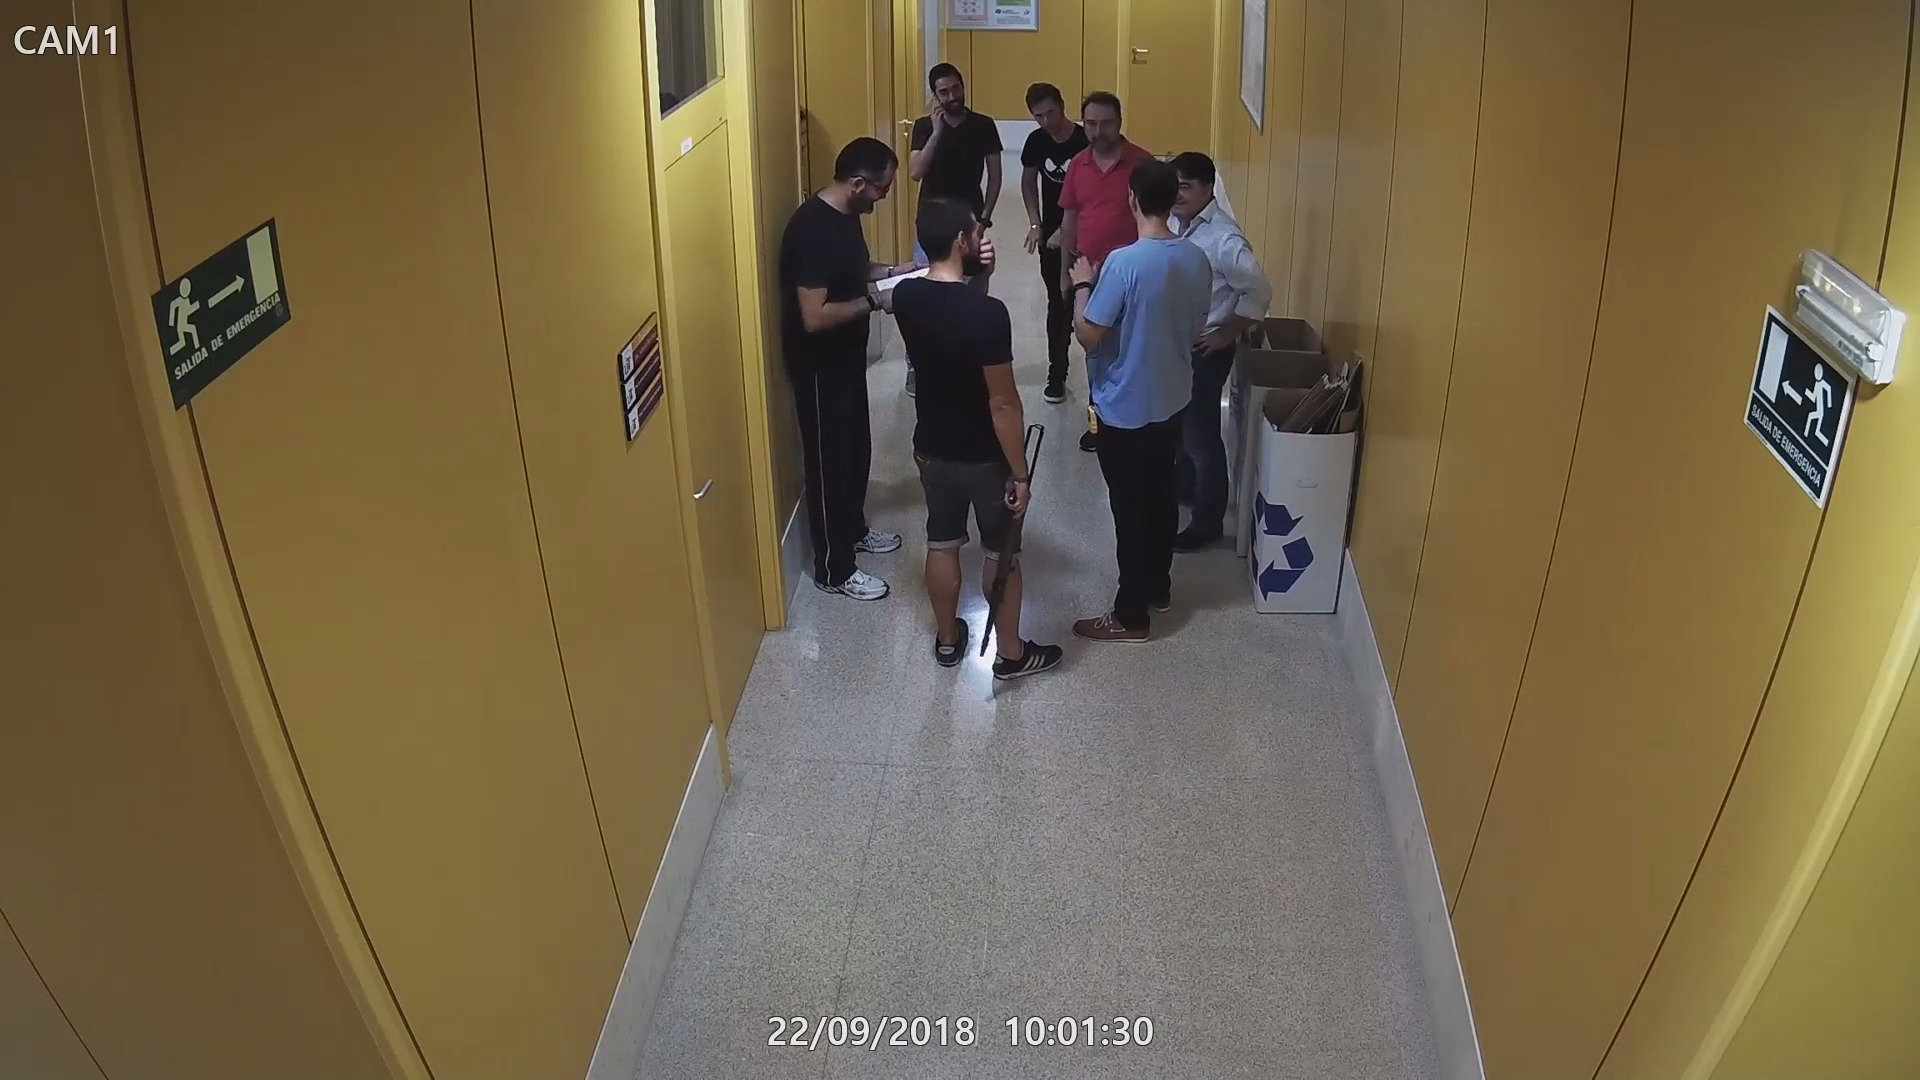Handgun: (1062, 248, 1088, 286)
Short_rifle: (975, 421, 1051, 659), (1051, 282, 1077, 392)
